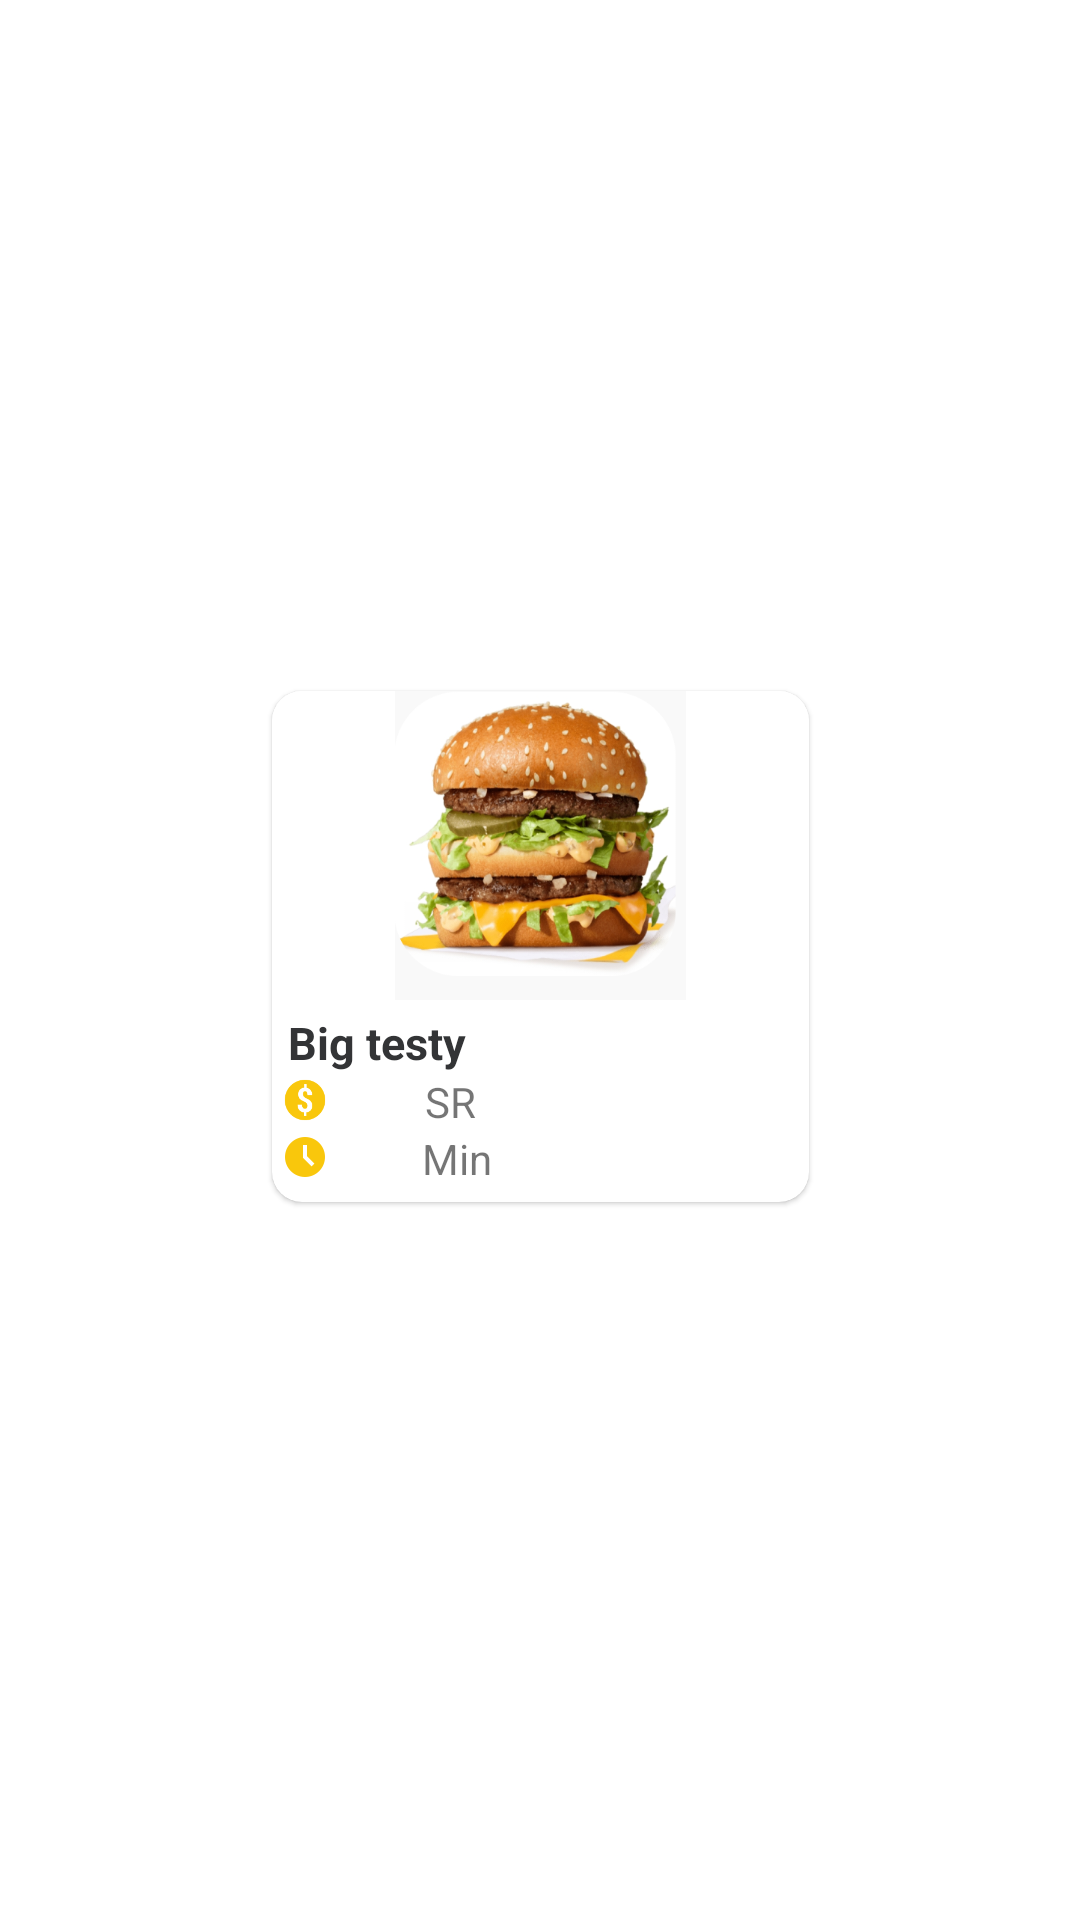

Point at icon controls on the screen. Image size 1080×1920, points as [x,y].
clock: [305,1157]
coin: [305,1100]
foodimage: [537,834]
